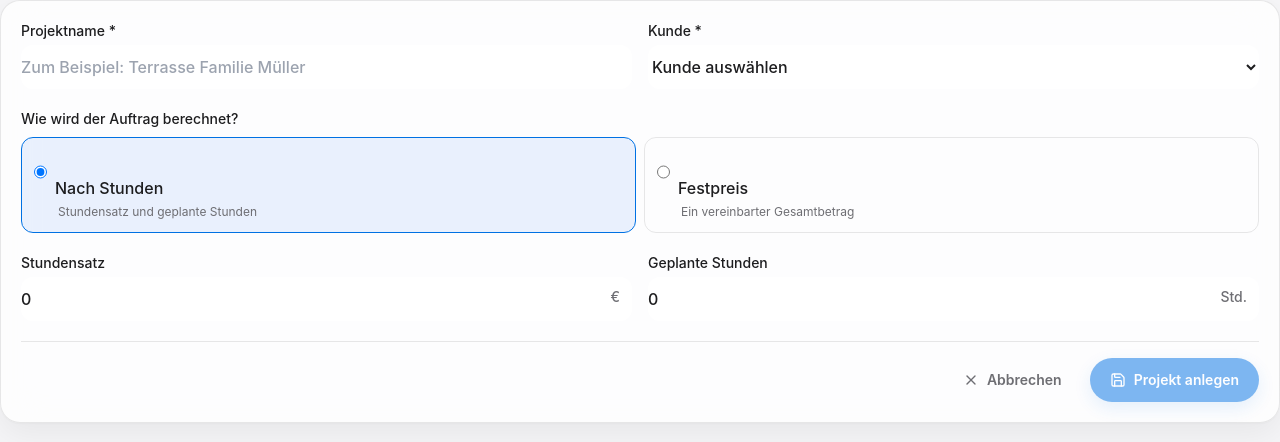
Test: ProjectForm › enables saving only after project and customer are selected
The image size is (1280, 442).
Check: the button "Projekt anlegen" is disabled, box [1090,358,1259,402]
Type "Neue Terrasse" into the field labelled "Projektname *" at (326,67), box [21,45,632,89]
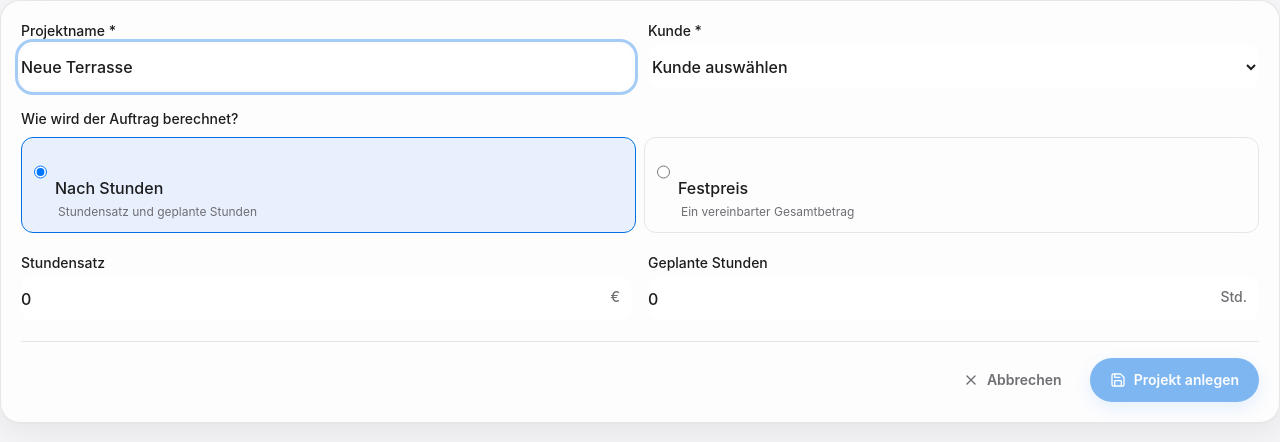
Select "Müller Gartenbau" in the dropdown labelled "Kunde *" at (954,67), box [648,45,1259,89]
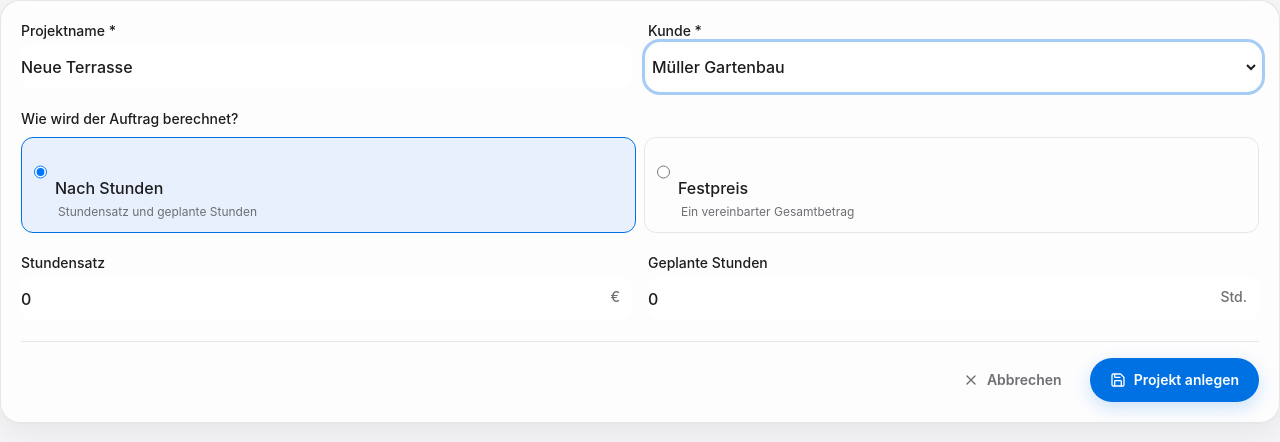
Check: the button "Projekt anlegen" is enabled, box [1090,358,1259,402]
